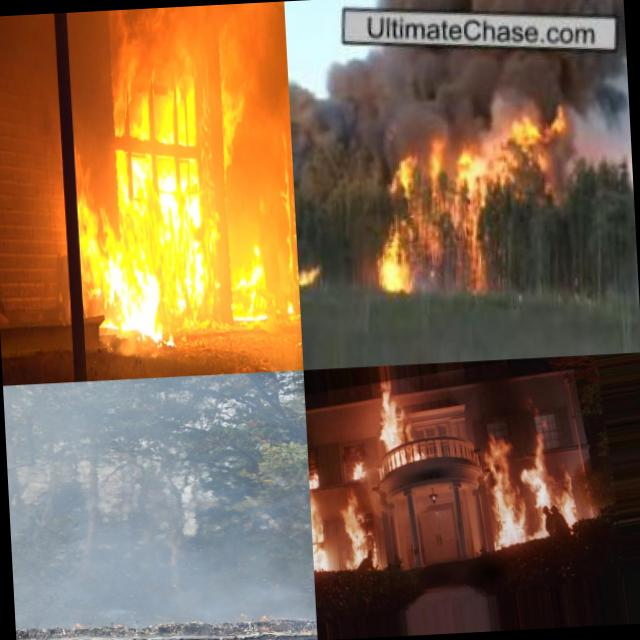fire: (365, 83, 567, 305), (72, 193, 165, 349), (156, 154, 218, 310), (522, 412, 578, 530), (481, 438, 530, 550), (374, 388, 426, 478), (227, 225, 268, 325), (344, 494, 378, 570), (218, 90, 244, 178), (309, 491, 332, 574), (298, 244, 328, 296), (348, 450, 369, 488), (308, 454, 323, 492)
smoke: (3, 370, 317, 637), (556, 72, 634, 194), (474, 384, 524, 441), (520, 368, 569, 414)
